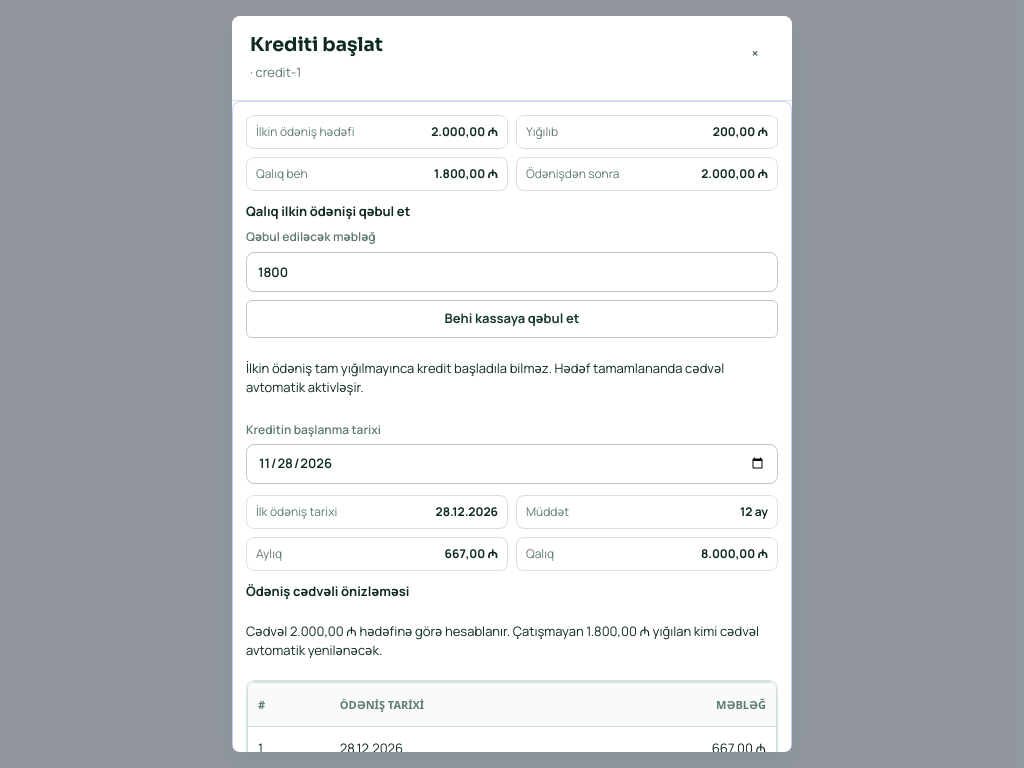
Test case: accepts decimal deposits once and keeps activation blocked until refreshed server totals arrive
The width and height of the screenshot is (1024, 768).
Later steps or results of the test are not shown.
Replace the text in the number field labelled "Qəbul ediləcək məbləğ" with "100.55" at x=512, y=272, box x1=246 y1=252 x2=778 y2=292
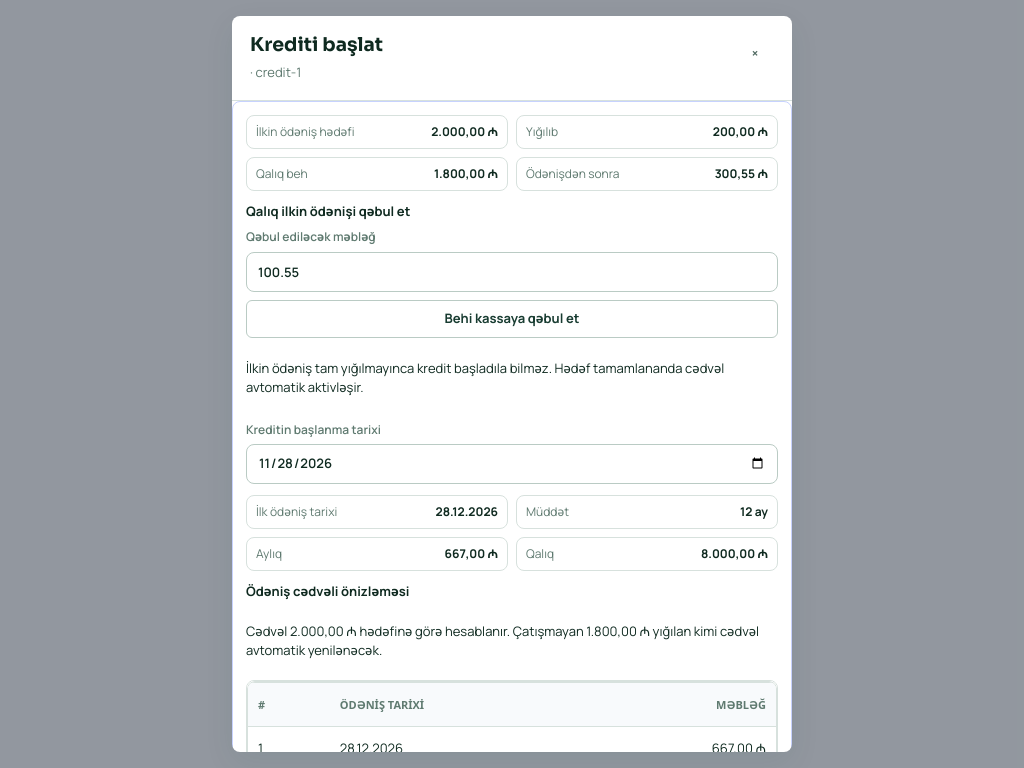
Click the button "Behi kassaya qəbul et" at x=512, y=319, box x1=246 y1=300 x2=778 y2=338
(page scrolled)
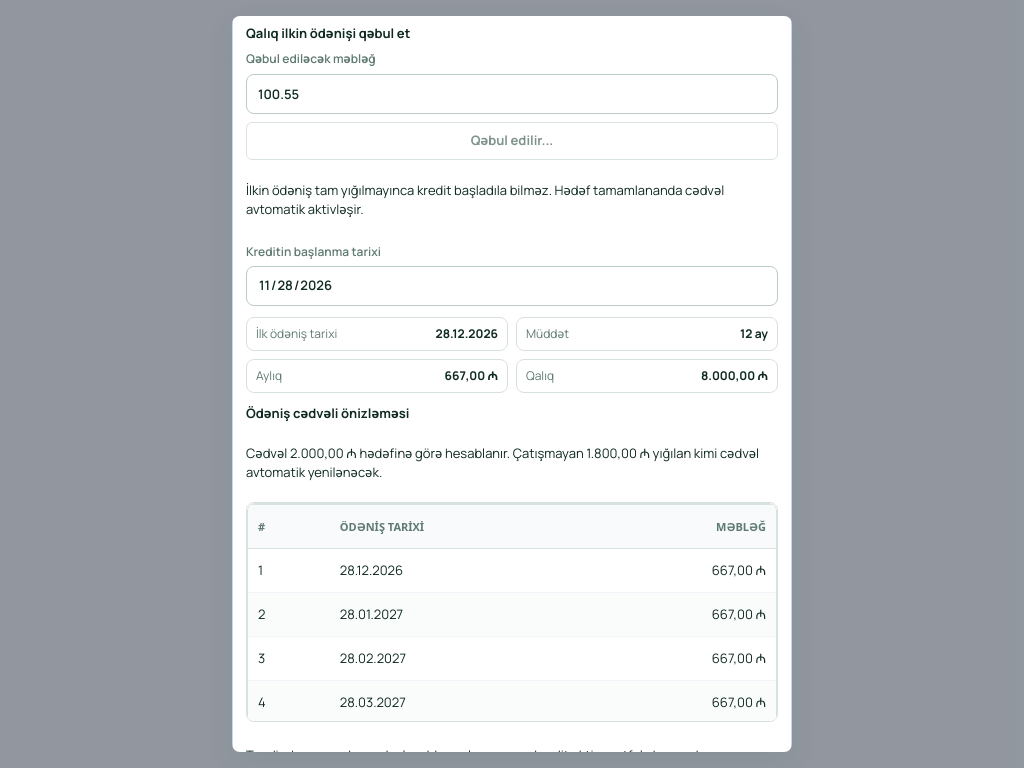
Submit the form
(page scrolled)
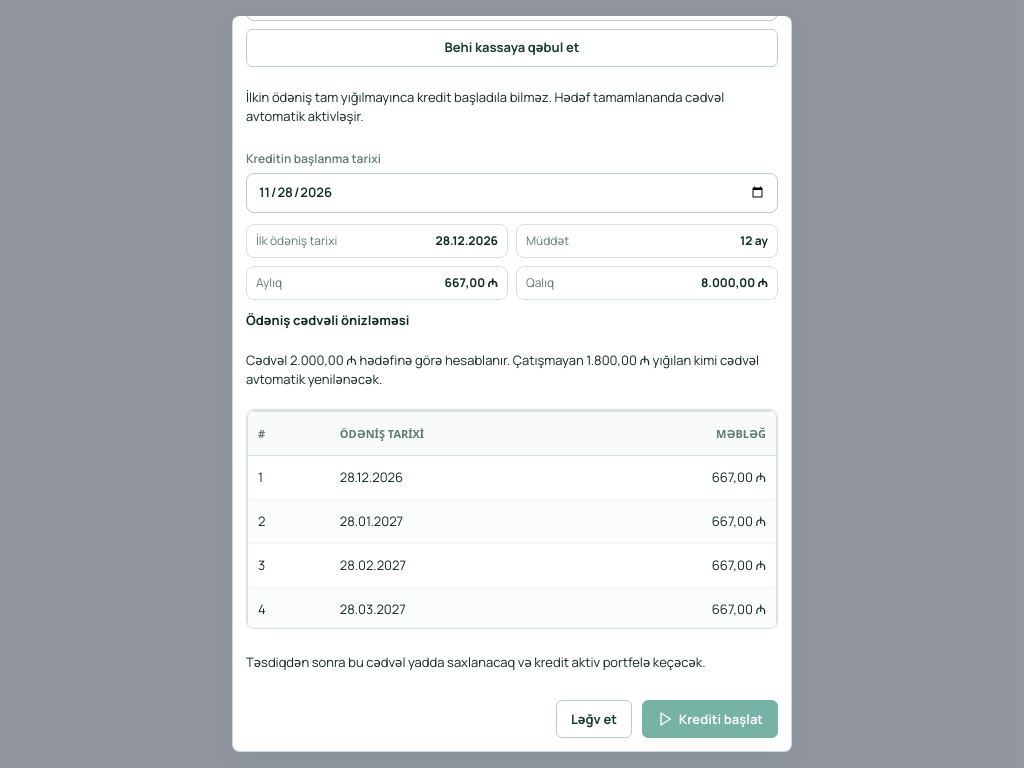
Result: the button "Krediti başlat" is disabled at x1=642 y1=700 x2=778 y2=738
